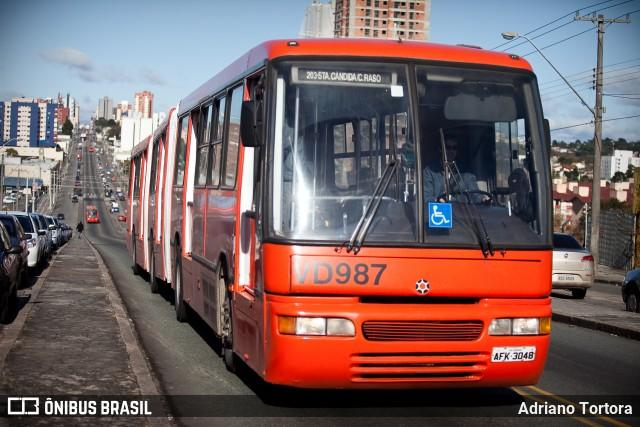STACANDIDA C.RASO: (317, 69, 386, 85)
